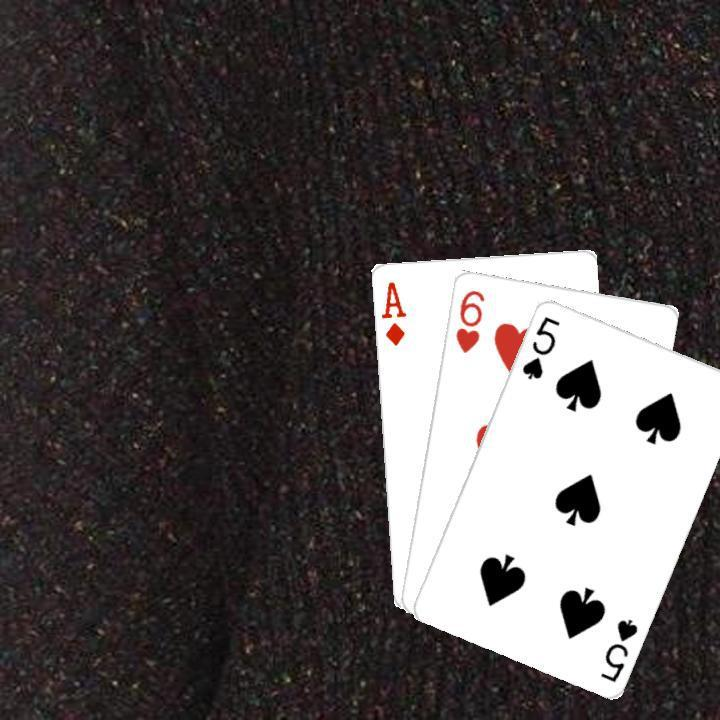5: (517, 311, 561, 381), (596, 614, 640, 684)
6: (450, 285, 486, 354)
A: (376, 277, 408, 347)
